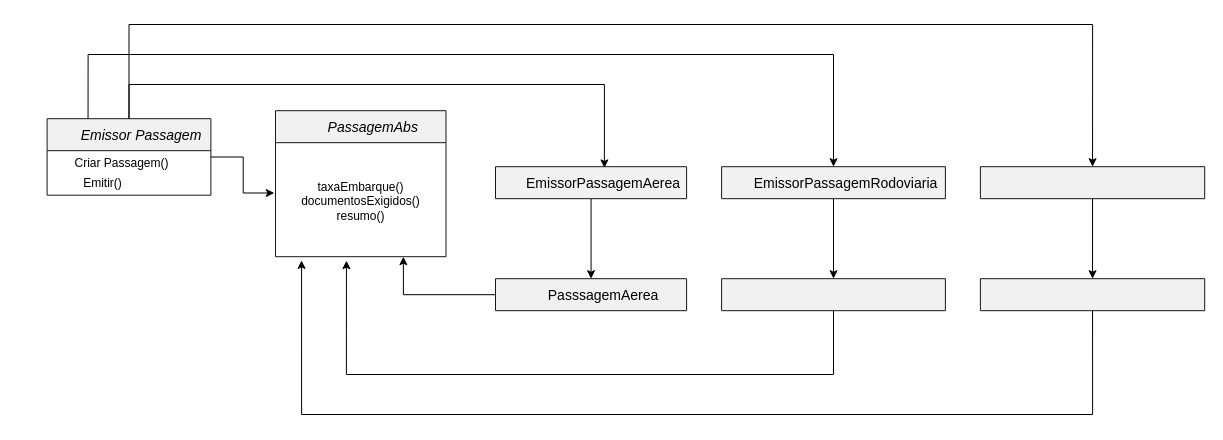
The diagram is 1223 pixels wide and 440 high, and some of its shapes have lost their labels. The shapes that lost their labels are listed below. From the top down, each one's centre as x and y in pixels, then its label:
At (x=1092, y=182): "EmissorPassagemFerroviaria".
At (x=833, y=294): "PassagemRodoviaria".
At (x=1092, y=294): "PassagemFerroviaria".
